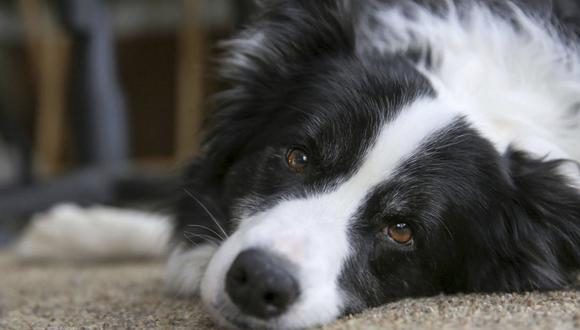dog: (171, 1, 580, 330)
